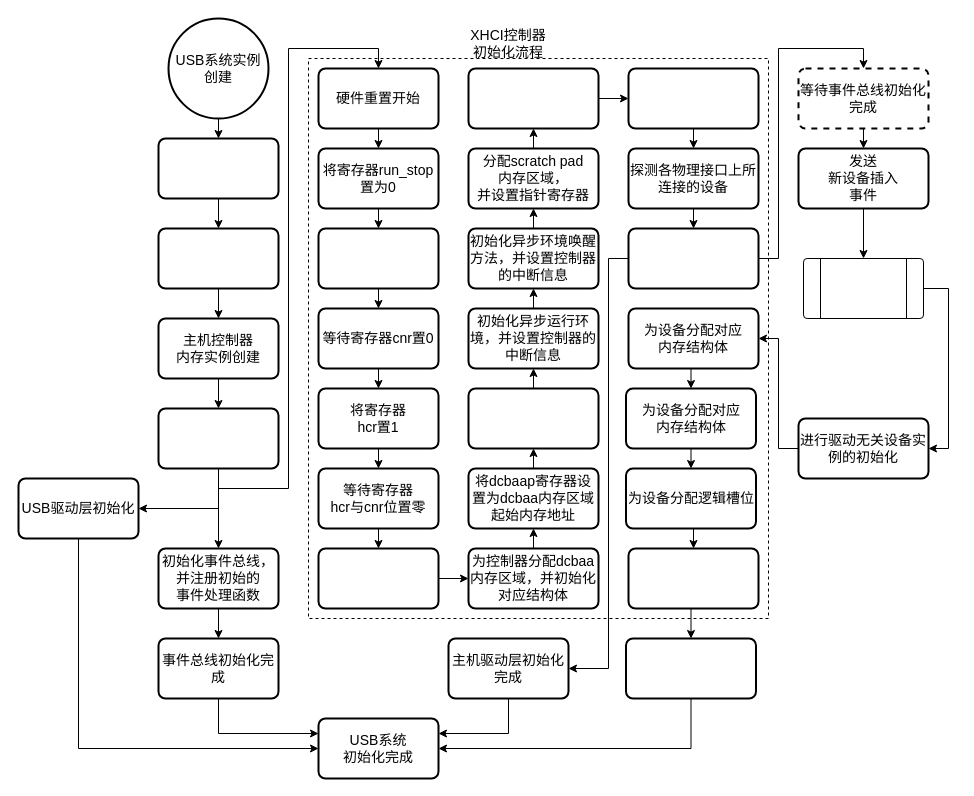
Image size: 974x796. Some labels were removed from this diagram. The shapes that lost their labels are listed below. From the top down, each one's centre as x and y in pixels, then its label:
At (x=533, y=98): "置位寄存器 run_stop为1， 启动控制器".
At (x=693, y=98): "初始化控制器各 物理接口".
At (x=218, y=168): "主机驱动层 初始化".
At (x=218, y=258): "初始载入 各驱动模块".
At (x=378, y=258): "等待寄存器 hc_halted置1".
At (x=693, y=258): "为探测到的设备 进行初始化".
At (x=863, y=288): "初始的 事件处理函数 创建 驱动无关设备实例".
At (x=218, y=438): "主机控制器 初始化".
At (x=533, y=418): "分配命令环，并将crcr寄存器指向命令环地址".
At (x=378, y=578): "根据ext_cap信息 设置对应寄存器 为硬件槽位数量".
At (x=693, y=578): "获取设备描述符".
At (x=690, y=668): "设备初始化完成， 开始根据所加载驱动模块进行运行".
